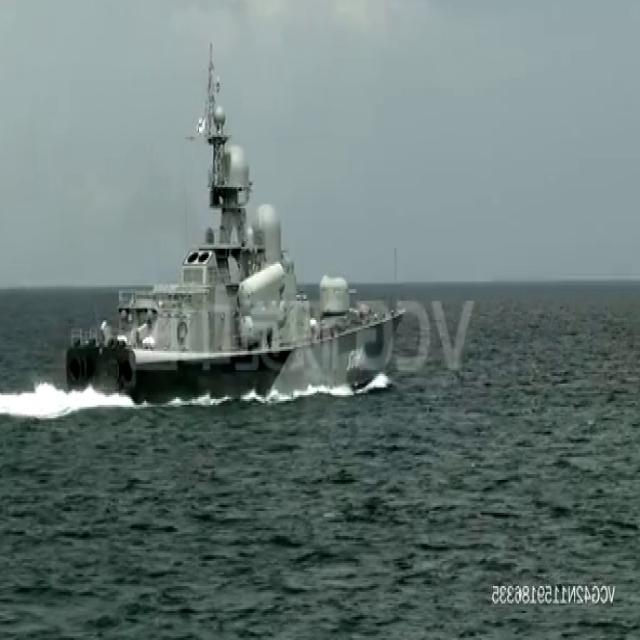navalvessels: (66, 41, 402, 402)
